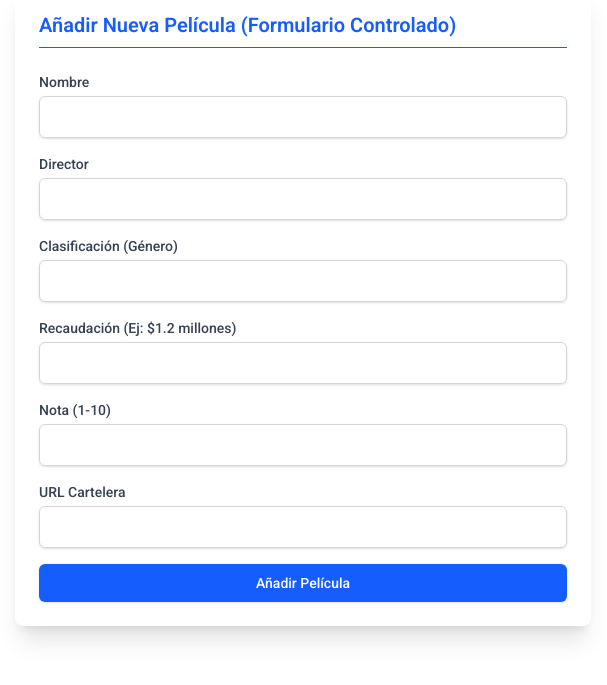
Test: Actividad 3 - Validación Nombre obligatorio › muestra el error si el nombre está vacío al enviar el formulario
Click the button "Añadir Película".
click(303, 583)  # box [39,564,567,602]
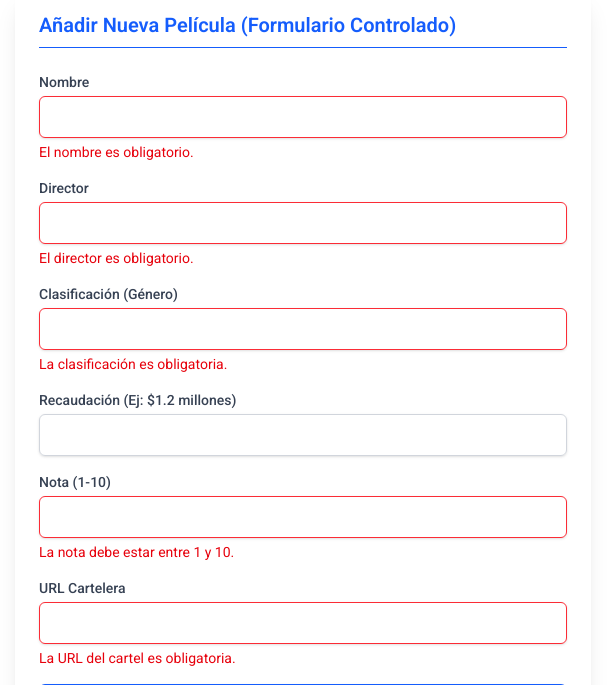
Check: the text "El nombre es obligatorio." is shown, box [39,144,194,160]
